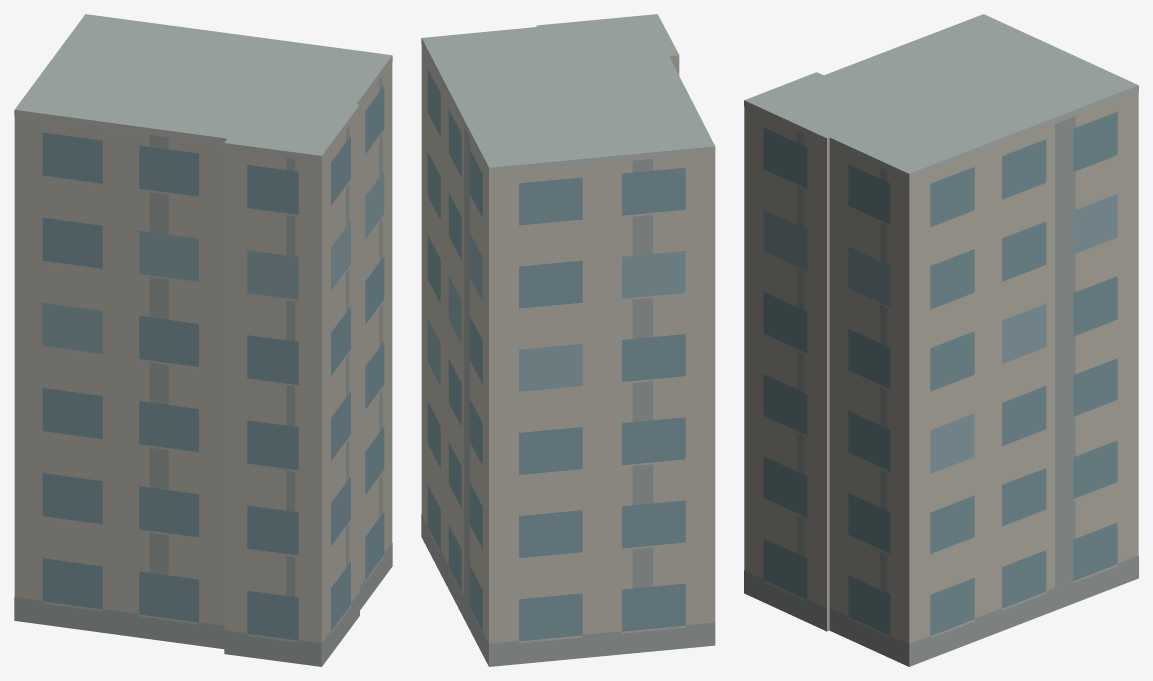
The model's file is survey-upis-32509005.glb.
3 views of the same model, side by side, from view 1: azimuth 30°, elevation 25°; view 2: azimuth 150°, elevation 25°; view 3: azimuth 270°, elevation 25° (orthographic). The views are drawn at different scales.
Visible parts, largest first — view 1: survey-upis-32509005.tmp; view 2: survey-upis-32509005.tmp; view 3: survey-upis-32509005.tmp.
Part boxes in pixels (left/top/right/bottom): survey-upis-32509005.tmp: left=14, top=14, right=392, bottom=666; survey-upis-32509005.tmp: left=421, top=14, right=715, bottom=666; survey-upis-32509005.tmp: left=744, top=14, right=1138, bottom=666.
Size of the model in its own units: 13 by 18.7 by 13.57.
